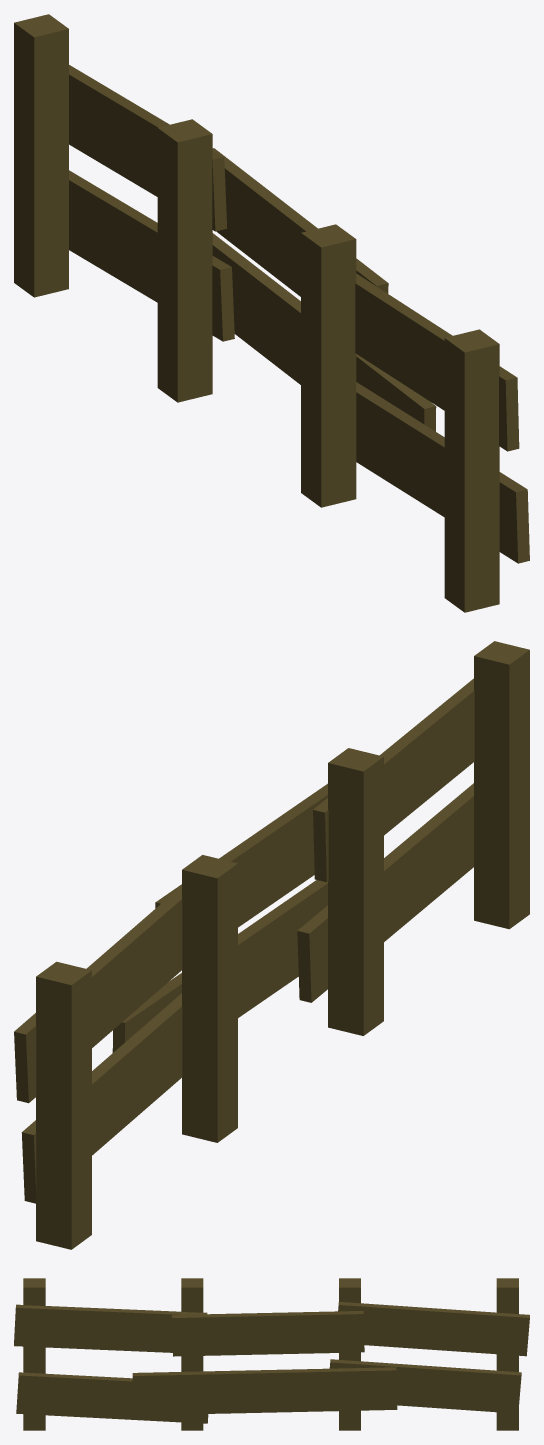
The model's file is fence.fbx.
3 views of the same model, one above another, from view 1: azimuth 30°, elevation 25°; view 2: azimuth 150°, elevation 25°; view 3: azimuth 270°, elevation 25° (orthographic). The views are drawn at different scales.
Visible parts, largest first — view 1: Cube.005; view 2: Cube.005; view 3: Cube.005.
Part boxes in pixels (box(x1,y1,x2,y2)): Cube.005: box(14, 14, 529, 612); Cube.005: box(14, 641, 529, 1249); Cube.005: box(14, 1278, 529, 1430).
Bounding box in the file's own units: 56.86 × 200 × 654.
